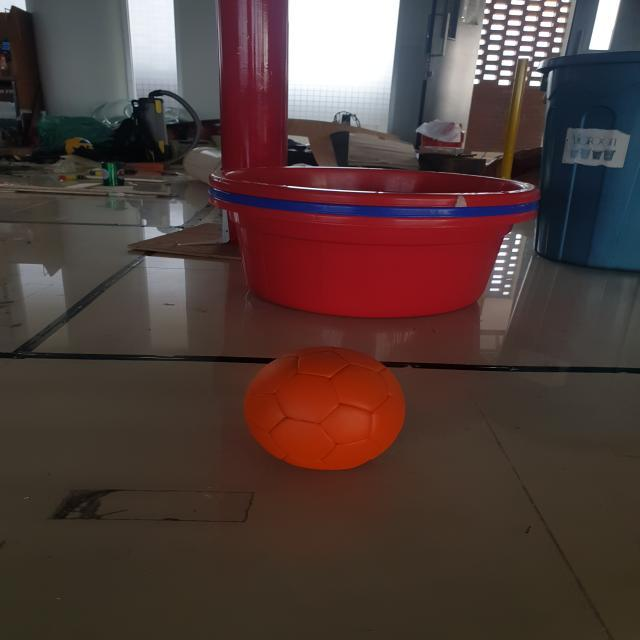bola: (228, 334, 421, 478)
